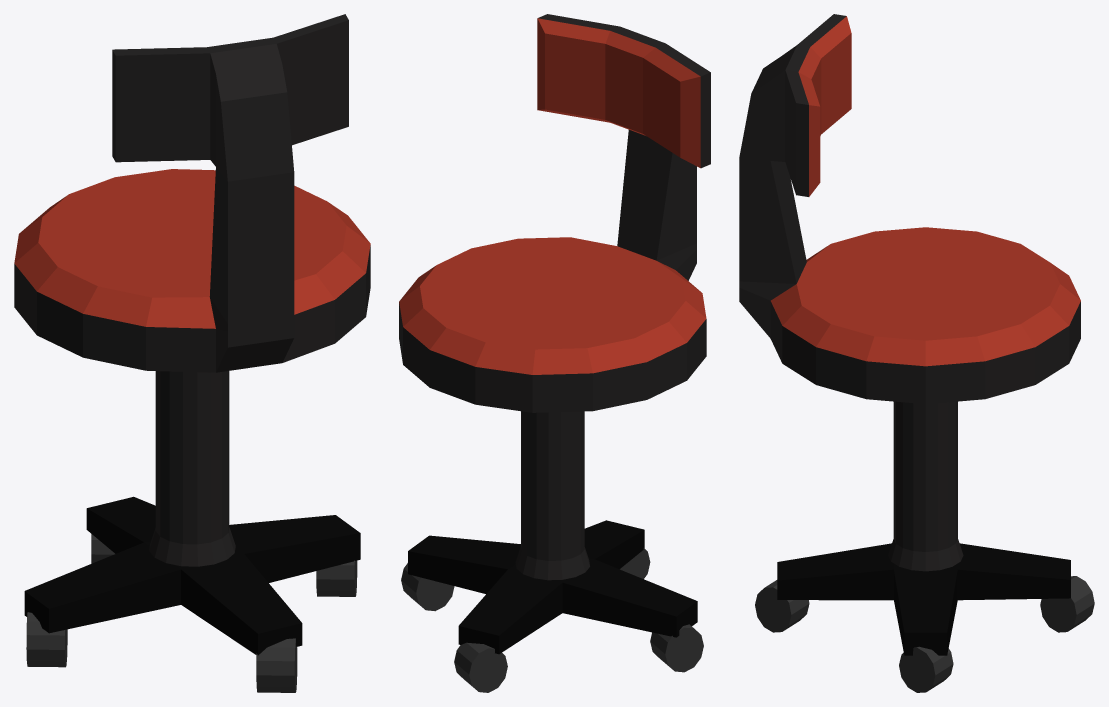
File: Computer_mouseChair.fbx
3 renders of one model, left to right at view 1: azimuth 30°, elevation 25°; view 2: azimuth 150°, elevation 25°; view 3: azimuth 270°, elevation 25°, orthographic. The views are drawn at different scales.
Parts seen in each view (by area): view 1: Cylinder, Cube, Cylinder.001; view 2: Cylinder, Cube, Cylinder.001; view 3: Cylinder, Cube, Cylinder.001.
Part boxes in pixels (box(x1,y1,x2,y2)): Cylinder: box(14, 14, 370, 566); Cube: box(24, 496, 360, 655); Cylinder.001: box(26, 534, 357, 692); Cylinder: box(399, 14, 710, 580); Cube: box(408, 520, 697, 654); Cylinder.001: box(401, 548, 703, 692); Cylinder: box(739, 14, 1080, 571); Cube: box(777, 543, 1070, 655); Cylinder.001: box(755, 576, 1094, 692).
Bounding box in the file's own units: 219 × 396 × 229.
